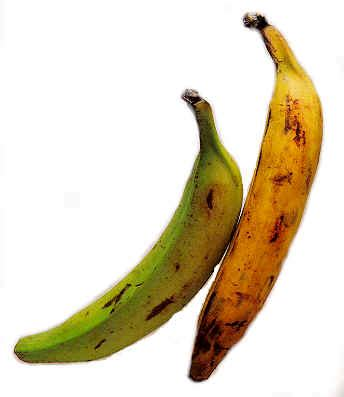banana: (9, 121, 248, 367), (188, 53, 326, 389)
